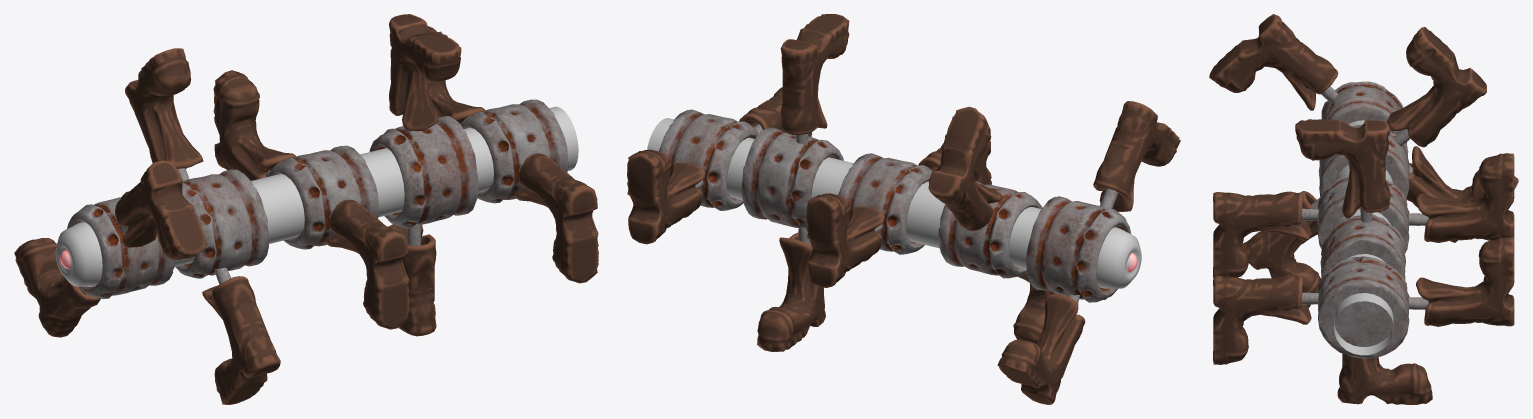
The model's file is BUTY.fbx.
The picture shows the model from 3 angles, left to right: view 1: azimuth 30°, elevation 25°; view 2: azimuth 150°, elevation 25°; view 3: azimuth 270°, elevation 25°; orthographic projection. The views are drawn at different scales.
Visible parts, largest first — view 1: BUTY; view 2: BUTY; view 3: BUTY.
Boxes of the visible parts, x1=… form: BUTY: x1=14, y1=14, x2=598, y2=404; BUTY: x1=627, y1=14, x2=1180, y2=404; BUTY: x1=1209, y1=14, x2=1518, y2=404.
Bounding box in the file's own units: 349 × 206 × 206.
